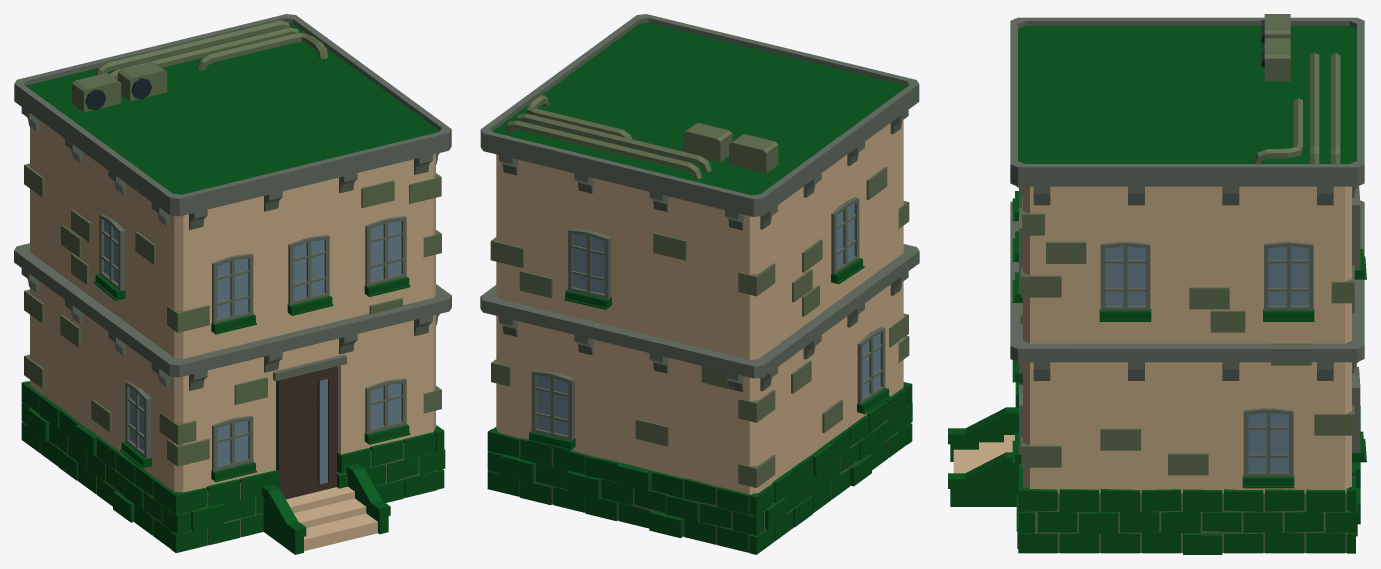
Rendered from PredioNovo3.fbx.
3 views of the same model, side by side, from view 1: azimuth 30°, elevation 25°; view 2: azimuth 150°, elevation 25°; view 3: azimuth 270°, elevation 25° (orthographic). The views are drawn at different scales.
Visible parts, largest first — view 1: 2Story_Mat; view 2: 2Story_Mat; view 3: 2Story_Mat.
Part boxes in pixels (x1,y1,x2,y2): 2Story_Mat: [14, 14, 451, 554]; 2Story_Mat: [480, 14, 919, 554]; 2Story_Mat: [948, 14, 1366, 554].
Bounding box in the file's own units: 216 × 275 × 254.
